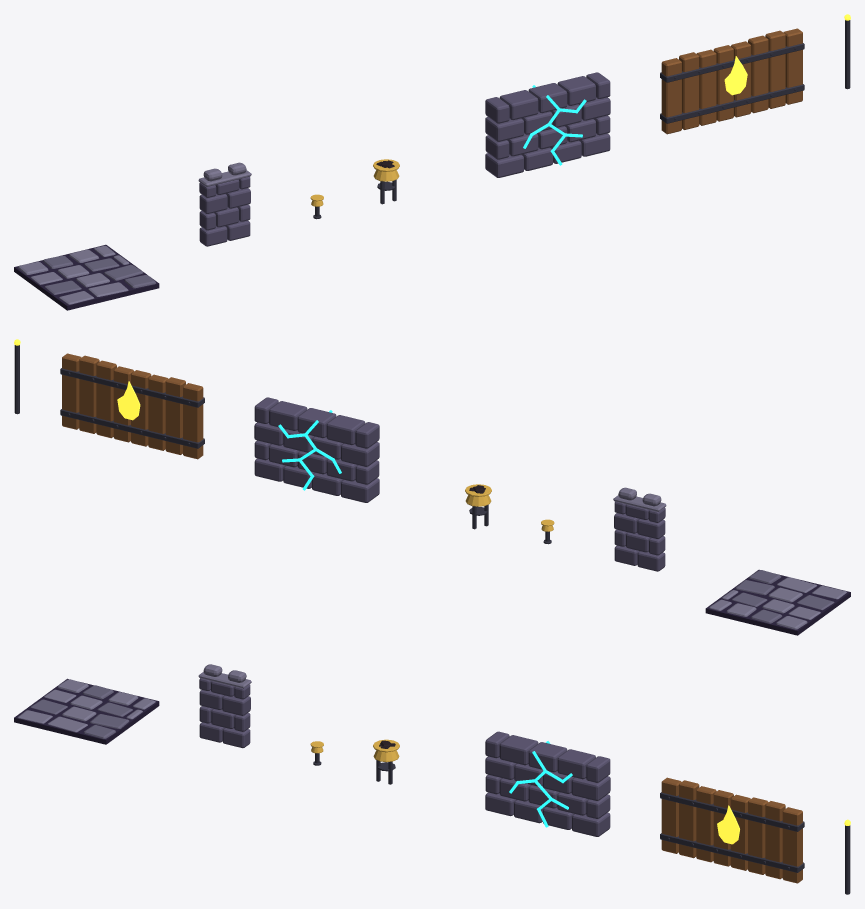
The model's file is CastleKit.fbx.
The picture shows the model from 3 angles, top to bottom: view 1: azimuth 30°, elevation 25°; view 2: azimuth 150°, elevation 25°; view 3: azimuth 330°, elevation 25°; orthographic projection.
Visible parts, largest first — view 1: SC_Prop_CrackedWall_Blocks, SC_Prop_WoodenDoor_Planks, SC_Kit_Wall_Blocks, SC_Kit_FloorTile_Stone, SC_Kit_FloorTile_Grout, SC_Prop_WoodenDoor_Bands, SC_Kit_FloorTile_StoneB, SC_Kit_Wall_Cap, SC_Prop_CrackedWall_Cracks, SC_Prop_WoodenDoor_Icon; view 2: SC_Prop_CrackedWall_Blocks, SC_Prop_WoodenDoor_Planks, SC_Kit_Wall_Blocks, SC_Kit_FloorTile_Stone, SC_Kit_FloorTile_Grout, SC_Prop_WoodenDoor_Bands, SC_Kit_FloorTile_StoneB, SC_Kit_Wall_Cap, SC_Prop_CrackedWall_Cracks, SC_Prop_WoodenDoor_Icon; view 3: SC_Prop_CrackedWall_Blocks, SC_Prop_WoodenDoor_Planks, SC_Kit_Wall_Blocks, SC_Kit_FloorTile_Stone, SC_Kit_FloorTile_Grout, SC_Prop_WoodenDoor_Bands, SC_Kit_FloorTile_StoneB, SC_Kit_Wall_Cap, SC_Prop_CrackedWall_Cracks, SC_Prop_WoodenDoor_Icon.
Part boxes in pixels (x1,y1,x2,y2): SC_Prop_CrackedWall_Blocks: (485,72,610,177); SC_Prop_WoodenDoor_Planks: (661,28,802,134); SC_Kit_Wall_Blocks: (199,176,250,246); SC_Kit_FloorTile_Stone: (18,245,129,304); SC_Kit_FloorTile_Grout: (14,244,159,310); SC_Prop_WoodenDoor_Bands: (660,43,804,123); SC_Kit_FloorTile_StoneB: (43,255,156,294); SC_Kit_Wall_Cap: (198,162,251,186); SC_Prop_CrackedWall_Cracks: (523,85,586,165); SC_Prop_WoodenDoor_Icon: (724,56,747,95); SC_Prop_CrackedWall_Blocks: (254,397,379,502); SC_Prop_WoodenDoor_Planks: (62,353,203,459); SC_Kit_Wall_Blocks: (614,501,665,571); SC_Kit_FloorTile_Stone: (709,577,846,629); SC_Kit_FloorTile_Grout: (705,569,850,635); SC_Prop_WoodenDoor_Bands: (60,368,204,448); SC_Kit_FloorTile_StoneB: (732,570,834,623); SC_Kit_Wall_Cap: (613,487,666,511); SC_Prop_CrackedWall_Cracks: (278,410,341,490); SC_Prop_WoodenDoor_Icon: (117,381,140,420); SC_Prop_CrackedWall_Blocks: (485,731,610,836); SC_Prop_WoodenDoor_Planks: (661,777,802,883); SC_Kit_Wall_Blocks: (199,678,250,748); SC_Kit_FloorTile_Stone: (17,679,155,732); SC_Kit_FloorTile_Grout: (14,678,159,744); SC_Prop_WoodenDoor_Bands: (660,792,804,872); SC_Kit_FloorTile_StoneB: (30,685,132,738); SC_Kit_Wall_Cap: (198,664,251,688); SC_Prop_CrackedWall_Cracks: (509,741,572,827); SC_Prop_WoodenDoor_Icon: (717,805,739,844).
Size of the model in its own units: 7026 by 661 by 800.
